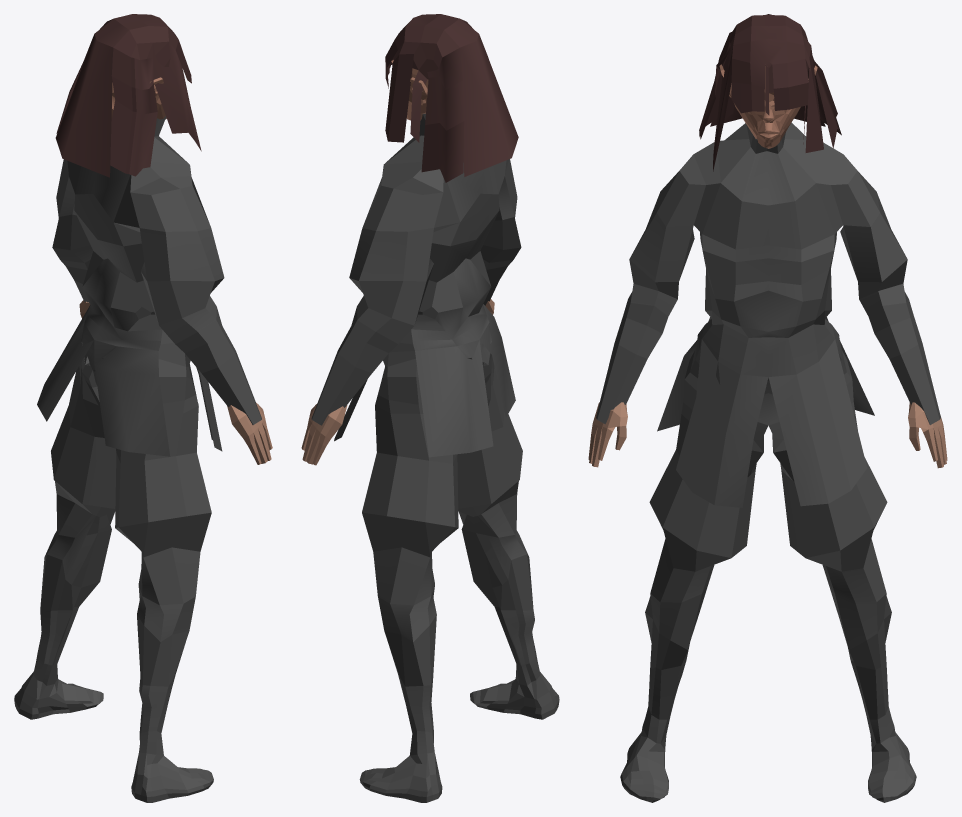
The model's file is ph_kunoichi.fbx.
3 renders of one model, left to right at view 1: azimuth 30°, elevation 25°; view 2: azimuth 150°, elevation 25°; view 3: azimuth 270°, elevation 25°, orthographic. The views are drawn at different scales.
Parts seen in each view (by area): view 1: Cylinder.001; view 2: Cylinder.001; view 3: Cylinder.001.
Boxes of the visible parts, <box> form: Cylinder.001: <box>14,14,272,802</box>; Cylinder.001: <box>301,14,559,802</box>; Cylinder.001: <box>588,14,947,802</box>.
Size of the model in its own units: 155 by 705 by 298.
